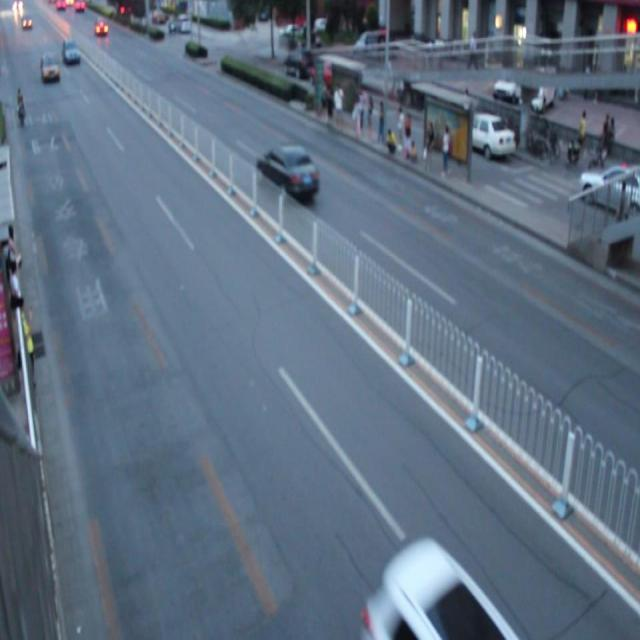car: (255, 142, 320, 202)
